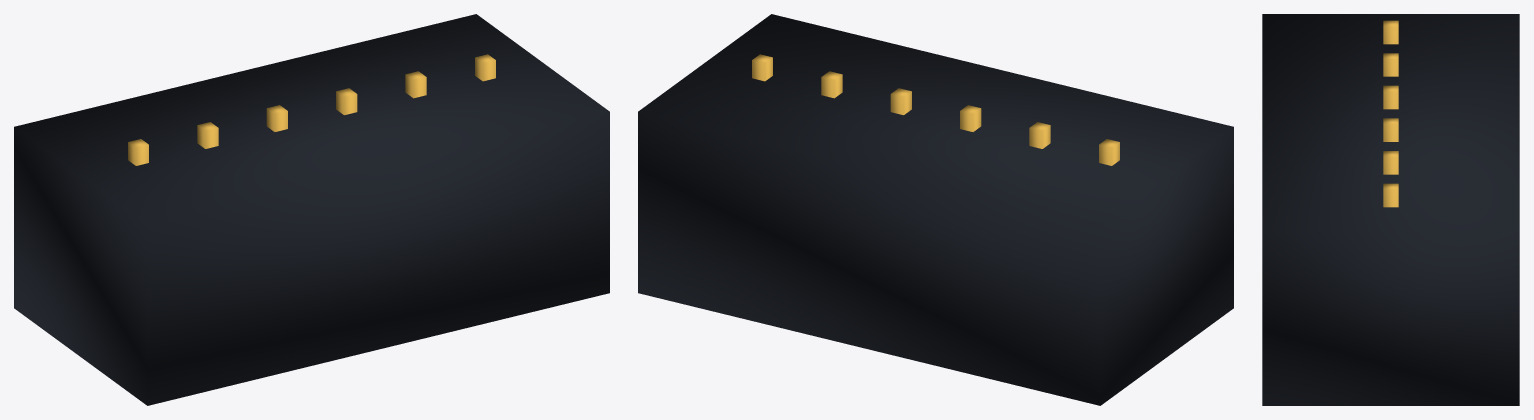
3 renders of one model, left to right at view 1: azimuth 30°, elevation 25°; view 2: azimuth 150°, elevation 25°; view 3: azimuth 270°, elevation 25°, orthographic. The views are drawn at different scales.
Visible parts, largest first — view 1: L105_J3_black, L105_J3_gold; view 2: L105_J3_black, L105_J3_gold; view 3: L105_J3_black, L105_J3_gold.
Boxes of the visible parts, x1,y1,x2,y2 form: L105_J3_black: (14,14,609,405); L105_J3_gold: (128,54,495,165); L105_J3_black: (638,14,1233,405); L105_J3_gold: (752,54,1119,165); L105_J3_black: (1262,14,1519,405); L105_J3_gold: (1383,20,1398,207).
Size of the model in its own units: 0.012 by 0.00495 by 0.006.
